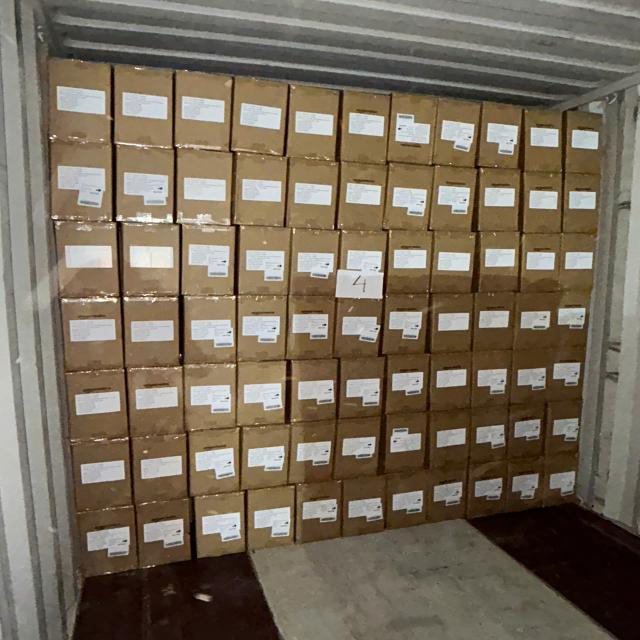Carton: (46, 60, 112, 148), (50, 142, 114, 223), (54, 222, 120, 300), (116, 64, 175, 150), (118, 142, 176, 225), (59, 295, 122, 370), (176, 71, 233, 153), (120, 223, 180, 298), (64, 370, 126, 442), (178, 152, 236, 228), (234, 77, 288, 158), (74, 442, 134, 514), (122, 298, 179, 372), (128, 365, 184, 438), (235, 153, 289, 228), (135, 499, 192, 570), (287, 86, 338, 164), (182, 225, 236, 298), (81, 509, 138, 578), (132, 434, 187, 505), (286, 159, 338, 232), (239, 226, 292, 297), (184, 295, 237, 364), (341, 89, 389, 165), (184, 362, 236, 431), (194, 494, 246, 562), (190, 427, 242, 495), (338, 229, 386, 299), (391, 92, 436, 166), (236, 362, 286, 428), (339, 162, 386, 232), (236, 297, 285, 363), (289, 230, 337, 297), (243, 427, 292, 491), (286, 298, 334, 363), (433, 98, 477, 168), (388, 164, 433, 232), (248, 490, 297, 552), (336, 416, 384, 479), (506, 346, 556, 406), (292, 358, 340, 420), (294, 482, 341, 544), (564, 109, 608, 175), (336, 301, 384, 361), (430, 167, 474, 232), (338, 355, 384, 417), (381, 297, 427, 359), (480, 103, 523, 169), (429, 232, 474, 294), (289, 422, 334, 484), (389, 232, 433, 295), (343, 474, 387, 537), (383, 352, 428, 413), (428, 292, 472, 353), (545, 345, 590, 404), (526, 107, 566, 173), (382, 412, 426, 472), (477, 233, 520, 294), (478, 170, 520, 232), (474, 290, 516, 351), (429, 351, 472, 410), (525, 172, 565, 234), (518, 290, 560, 349), (427, 411, 470, 468), (523, 235, 563, 296), (468, 460, 509, 519), (389, 472, 429, 532), (562, 175, 600, 235), (473, 348, 512, 406), (427, 468, 466, 523), (506, 459, 544, 515), (561, 235, 596, 293), (556, 290, 592, 346), (546, 401, 582, 456), (507, 406, 544, 459), (473, 410, 510, 462), (545, 458, 578, 508)
